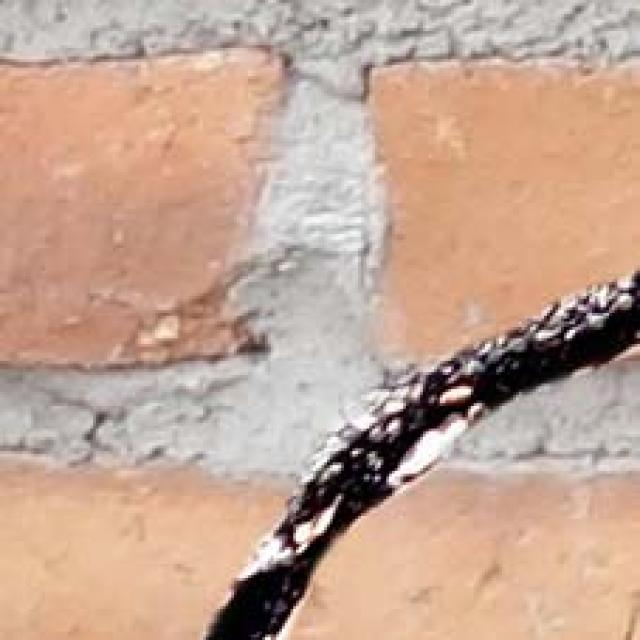Crack: (192, 258, 640, 640)
